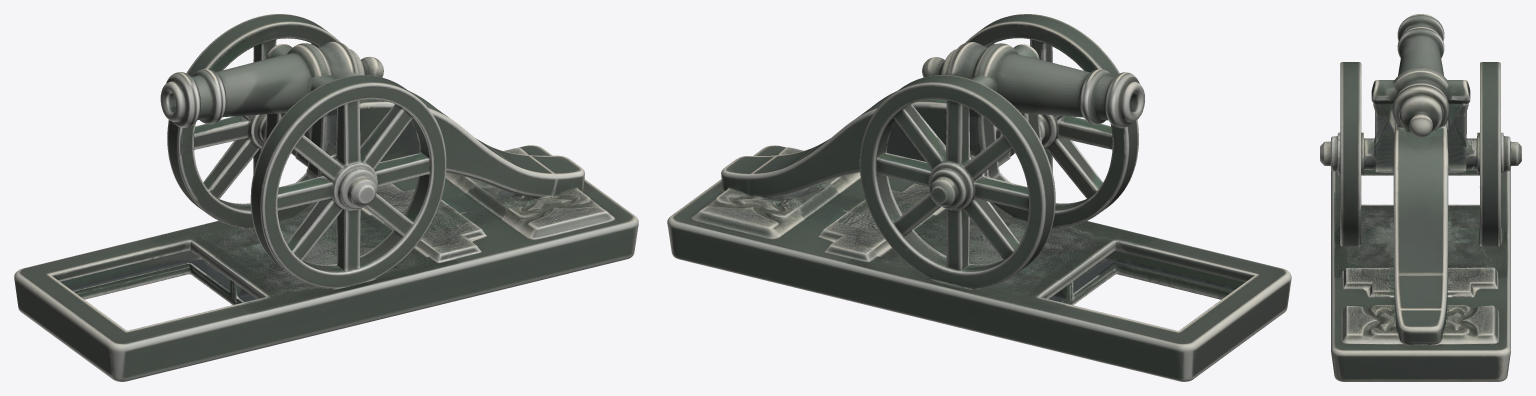
The model's file is pushka.glb.
3 renders of one model, left to right at view 1: azimuth 30°, elevation 25°; view 2: azimuth 150°, elevation 25°; view 3: azimuth 270°, elevation 25°, orthographic. The views are drawn at different scales.
Bounding box in the file's own units: 1.9 × 0.8405 × 0.7516.
Materials: 1 (1 with a texture image).
